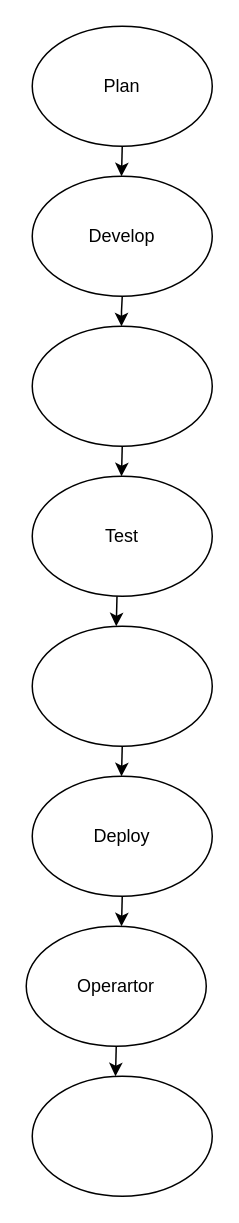
Image size: 239x1223. Some labels were removed from this diagram. Here are the shapes that lost their labels. From the top down, the box of each, then its label:
(31, 325, 212, 446): Build
(31, 625, 212, 746): Release
(31, 1075, 212, 1196): Monitor
